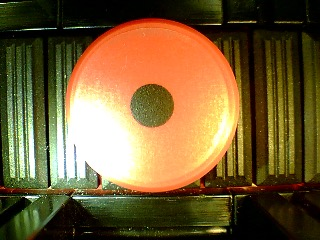BOHO: (65, 18, 240, 192)
